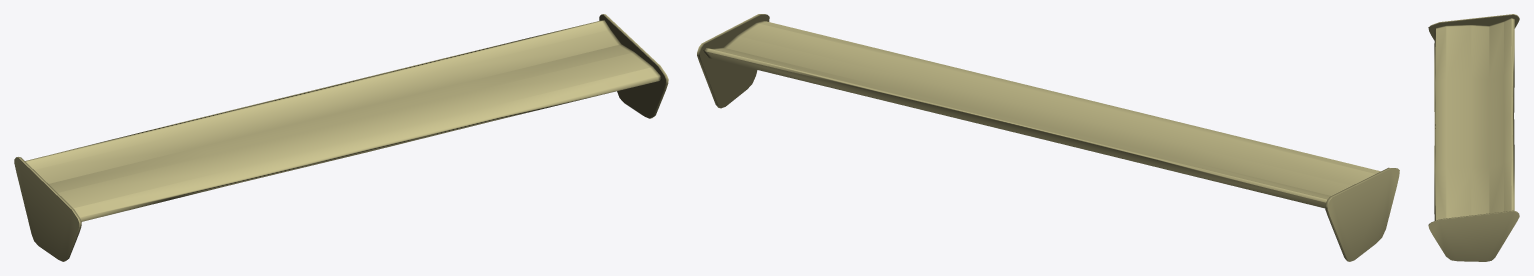
The model's file is R34_Spoiler02_Duco.fbx.
3 views of the same model, side by side, from view 1: azimuth 30°, elevation 25°; view 2: azimuth 150°, elevation 25°; view 3: azimuth 270°, elevation 25° (orthographic). The views are drawn at different scales.
Parts seen in each view (by area): view 1: R34_Spoiler02_Duco; view 2: R34_Spoiler02_Duco; view 3: R34_Spoiler02_Duco.
Boxes of the visible parts, x1,y1,x2,y2 form: R34_Spoiler02_Duco: [14, 14, 668, 261]; R34_Spoiler02_Duco: [697, 14, 1399, 261]; R34_Spoiler02_Duco: [1428, 14, 1519, 261].
Bounding box in the file's own units: 171 × 20.36 × 33.27.
